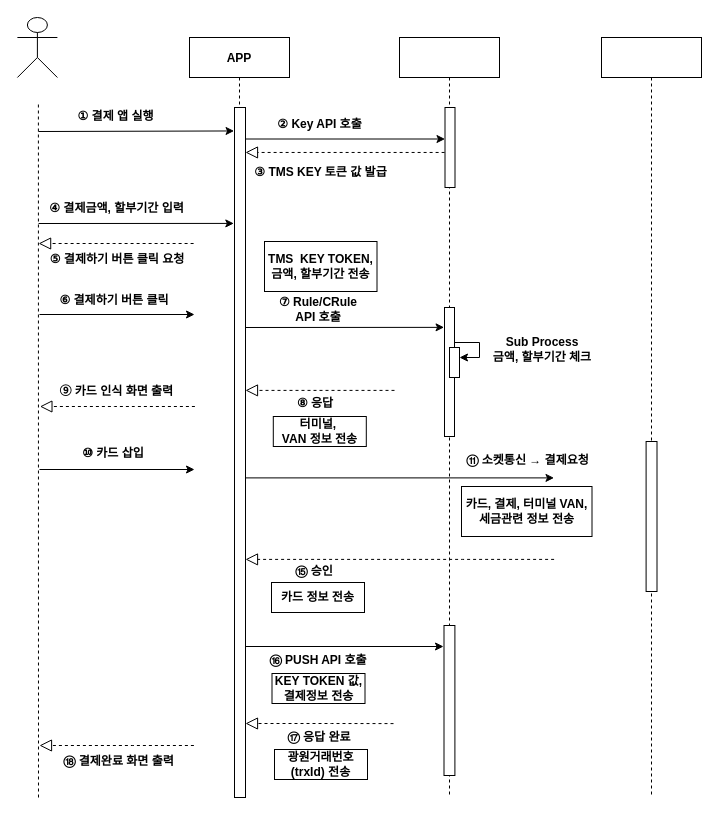
The diagram is 720 pixels wide and 816 high, and some of its shapes have lost their labels. Each missing label, with the centre of its shape:
TMS SERVER: the point at 449,417
VAN: the point at 651,417
사용자: the point at 36,47
